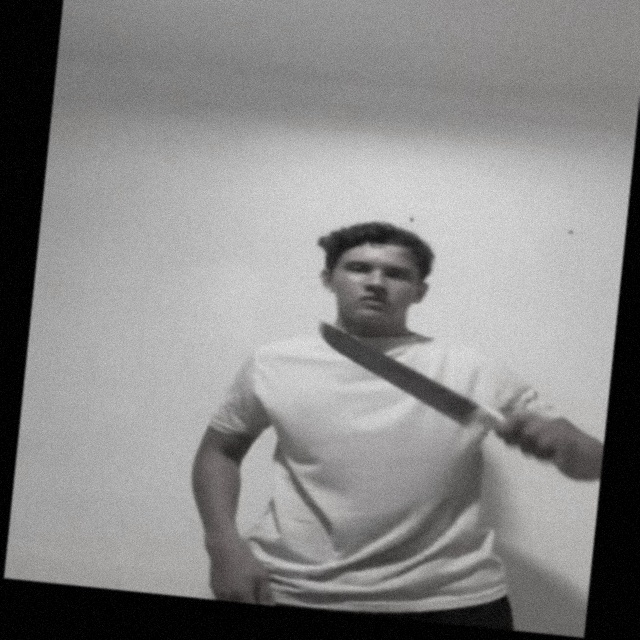Sharp-Object: (309, 321, 478, 419)
